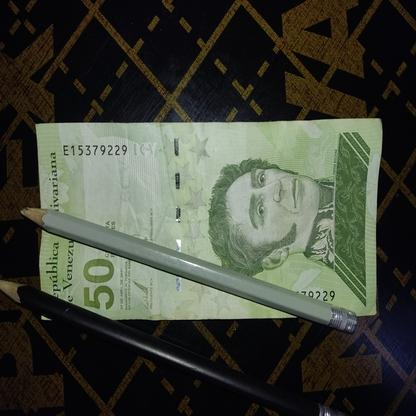fifty-front-vef: (34, 117, 383, 320)
